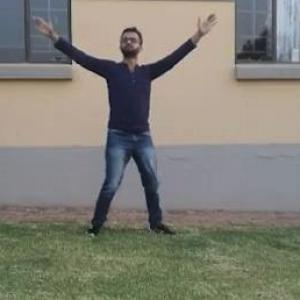takeoff: (44, 9, 241, 262)
